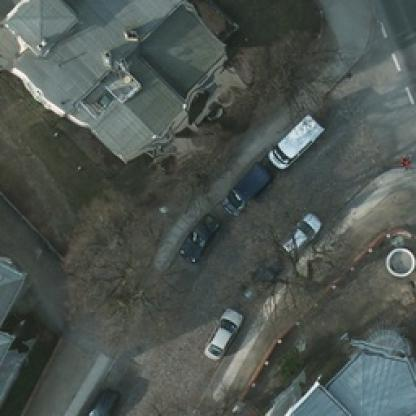car: (216, 160, 272, 209), (268, 114, 322, 164), (178, 210, 220, 260), (278, 211, 320, 260), (203, 307, 239, 358), (242, 252, 278, 299)
